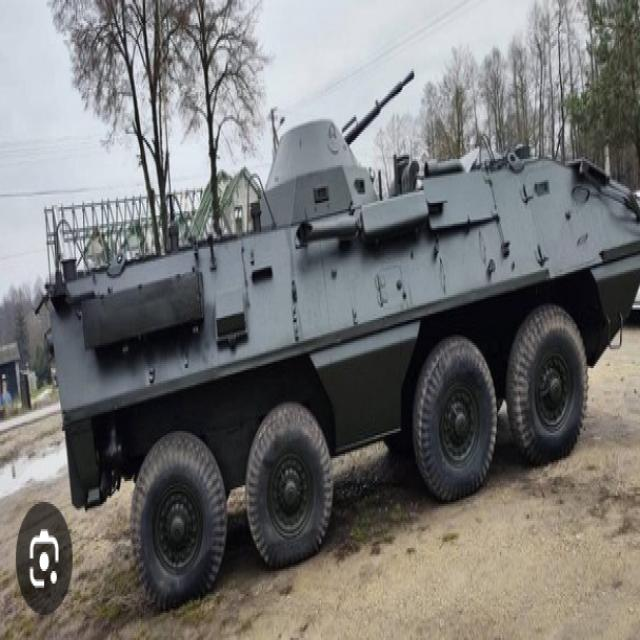MIL_APC: (35, 121, 640, 571)
